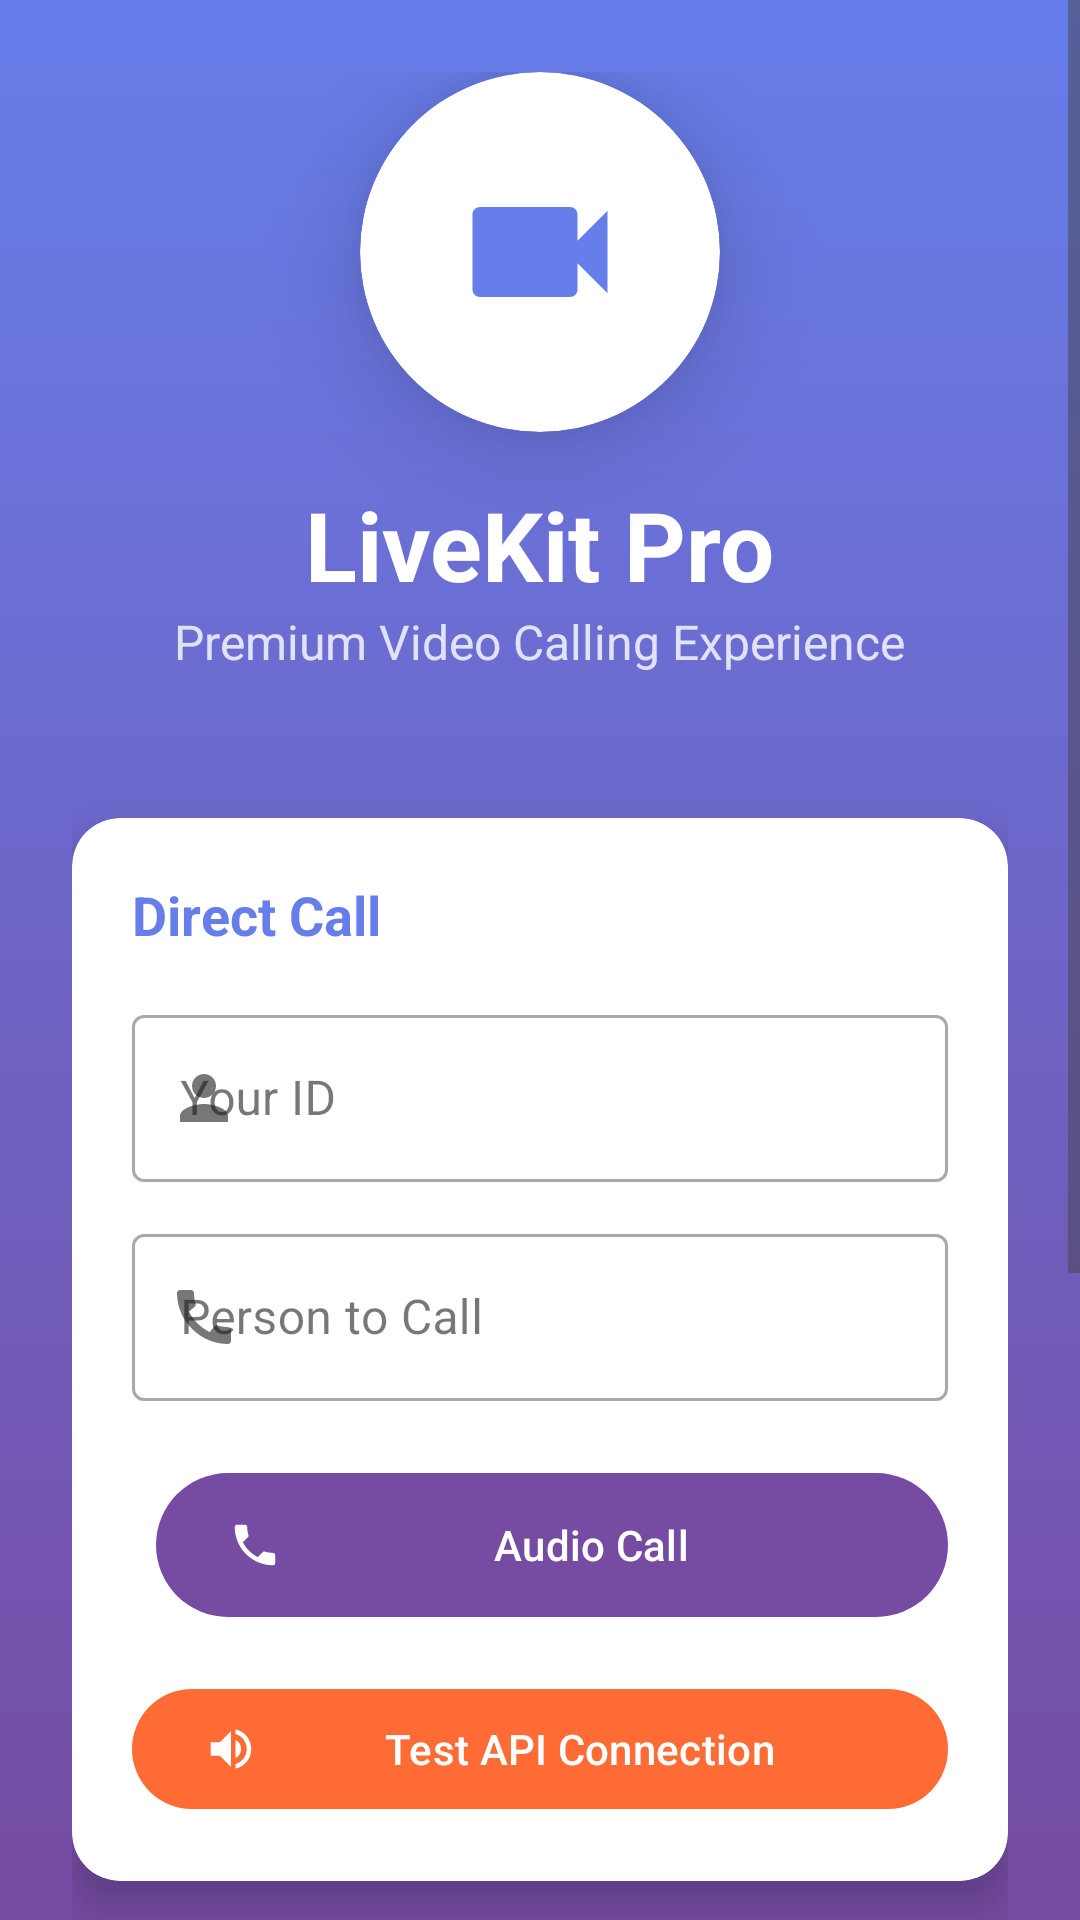

Point at icon controls on the screen. Image size 1080px x 1920px, points as point (x, y).
videocam: point (540, 252)
